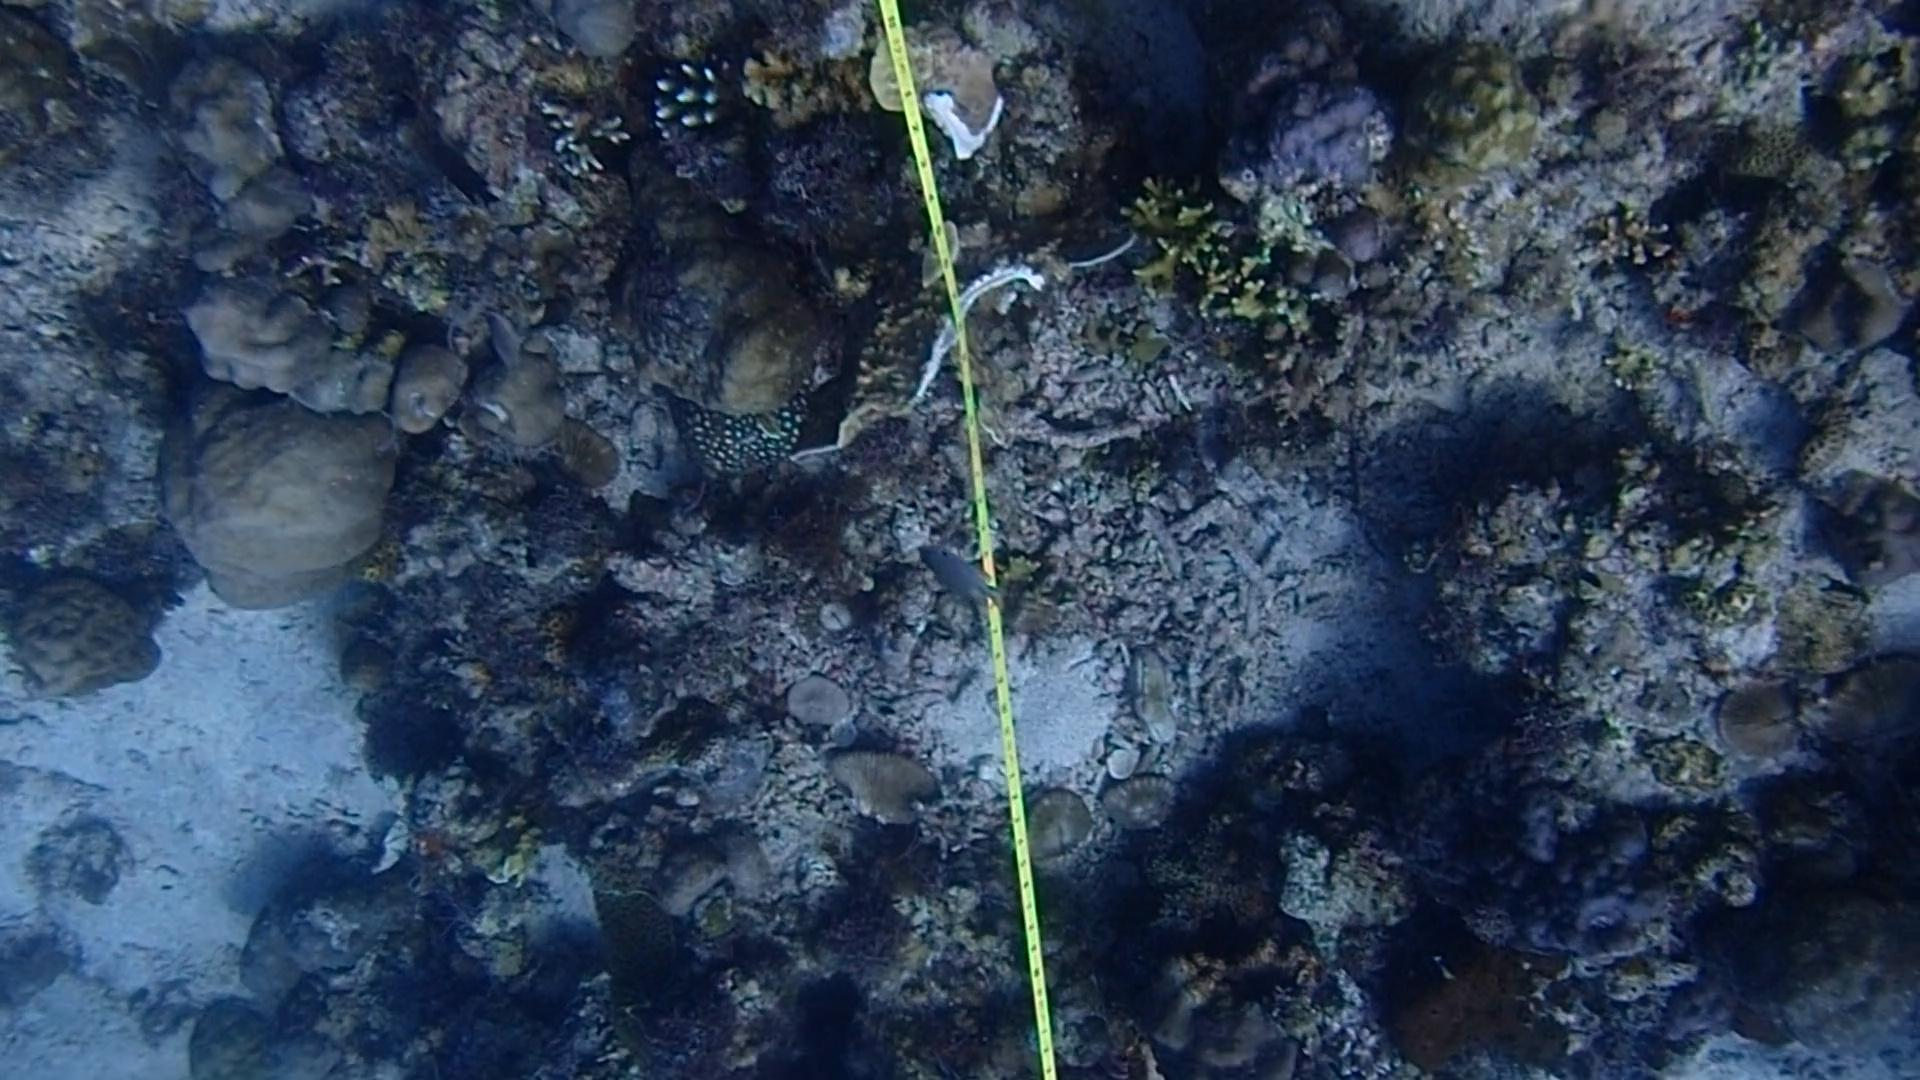Light Fish: (903, 531, 1007, 609)
